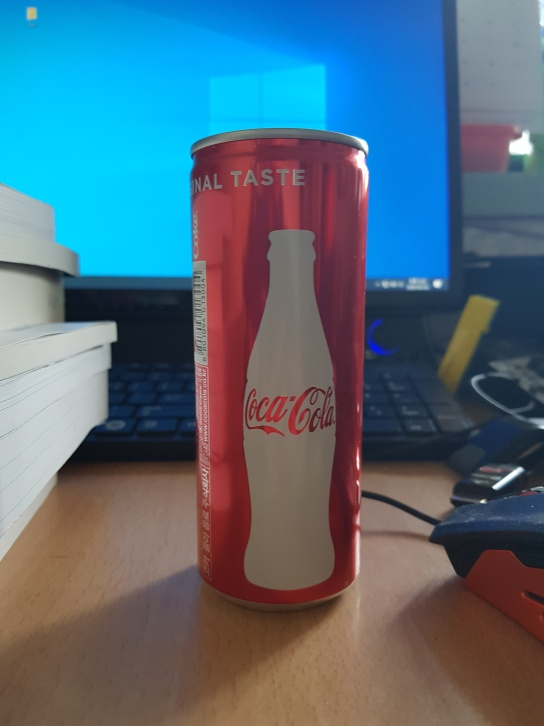Can: (185, 123, 364, 613)
